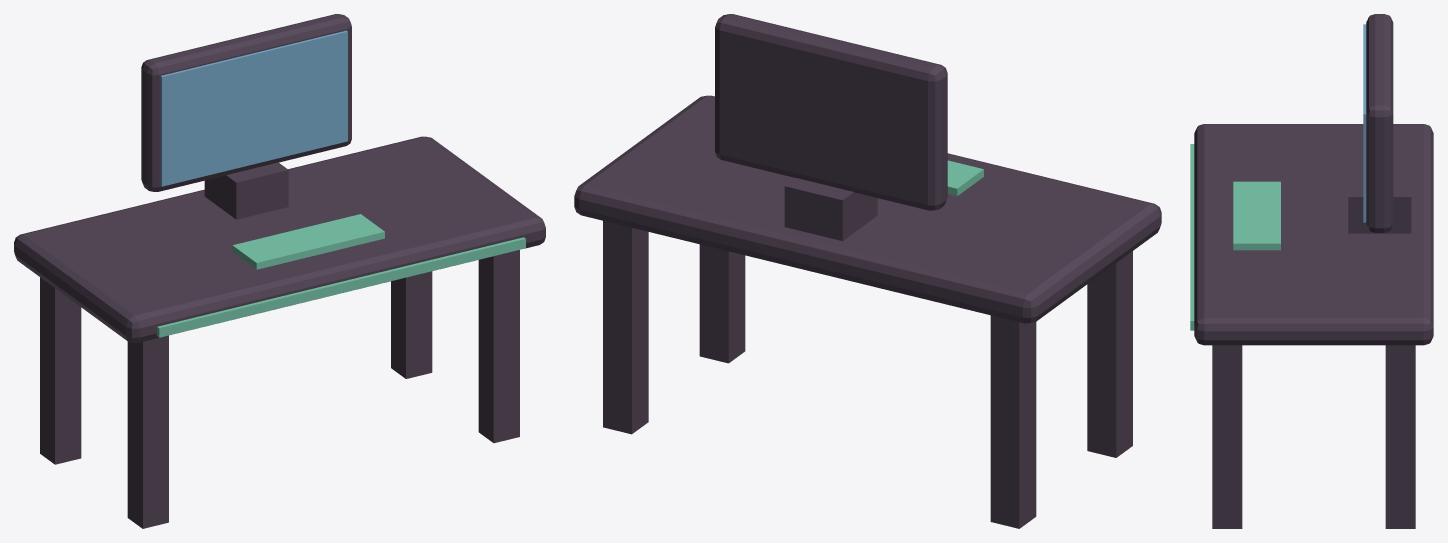
Rendered from prop_meja_lv3.fbx.
The picture shows the model from 3 angles, left to right: view 1: azimuth 30°, elevation 25°; view 2: azimuth 150°, elevation 25°; view 3: azimuth 270°, elevation 25°; orthographic projection. The views are drawn at different scales.
Parts seen in each view (by area): view 1: prop_meja_lv3; view 2: prop_meja_lv3; view 3: prop_meja_lv3.
Boxes of the visible parts, <box> form: prop_meja_lv3: <box>14,14,545,528</box>; prop_meja_lv3: <box>574,14,1161,528</box>; prop_meja_lv3: <box>1190,14,1433,528</box>.
Size of the model in its own units: 160 by 140 by 81.35.
1 material, 1 textured.
